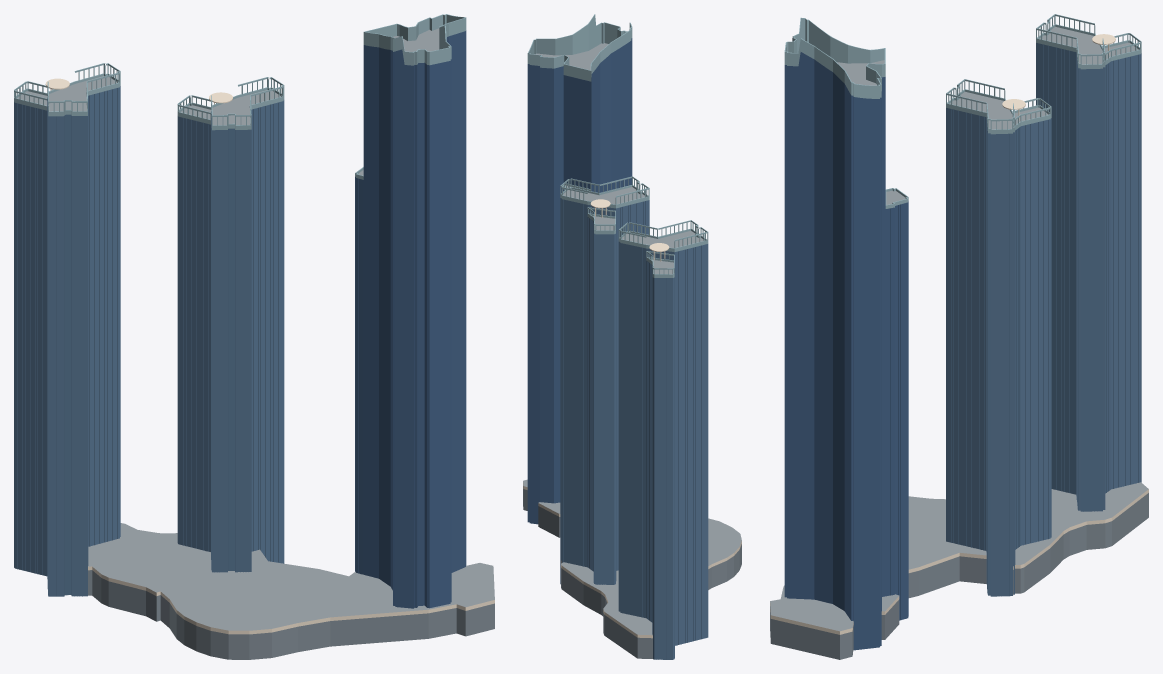
The model's file is busan-lct-landmark-tower.detail.glb.
3 views of the same model, side by side, from view 1: azimuth 30°, elevation 25°; view 2: azimuth 150°, elevation 25°; view 3: azimuth 270°, elevation 25° (orthographic). The views are drawn at different scales.
Parts seen in each view (by area): view 1: Haeundae LCT The Sharp; view 2: Haeundae LCT The Sharp; view 3: Haeundae LCT The Sharp.
Boxes of the visible parts, x1,y1,x2,y2 form: Haeundae LCT The Sharp: (14, 14, 494, 659); Haeundae LCT The Sharp: (523, 14, 741, 659); Haeundae LCT The Sharp: (770, 14, 1148, 659).
Size of the model in its own units: 241 by 411 by 240.
